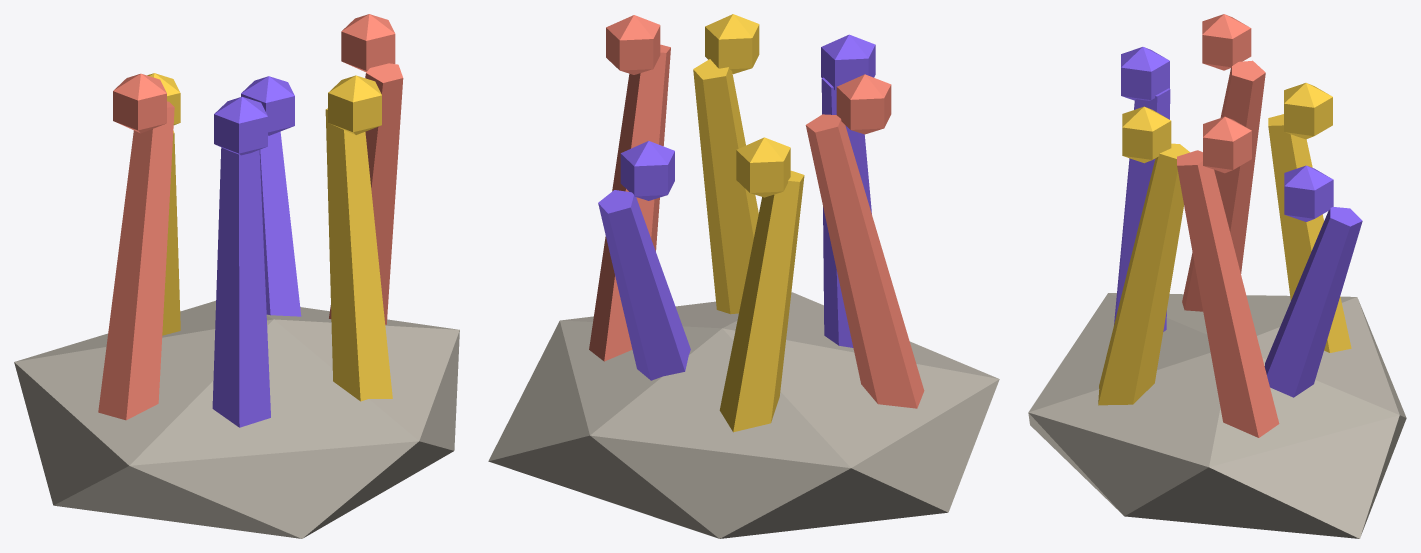
The model's file is prop_coral.glb.
3 views of the same model, side by side, from view 1: azimuth 30°, elevation 25°; view 2: azimuth 150°, elevation 25°; view 3: azimuth 270°, elevation 25° (orthographic). The views are drawn at different scales.
Visible parts, largest first — view 1: prop_coral; view 2: prop_coral; view 3: prop_coral.
Part boxes in pixels (box(x1,y1,x2,y2)): prop_coral: box(14, 14, 459, 538); prop_coral: box(488, 14, 999, 538); prop_coral: box(1028, 14, 1406, 538).
Bounding box in the file's own units: 0.693 × 0.7816 × 0.6042.
